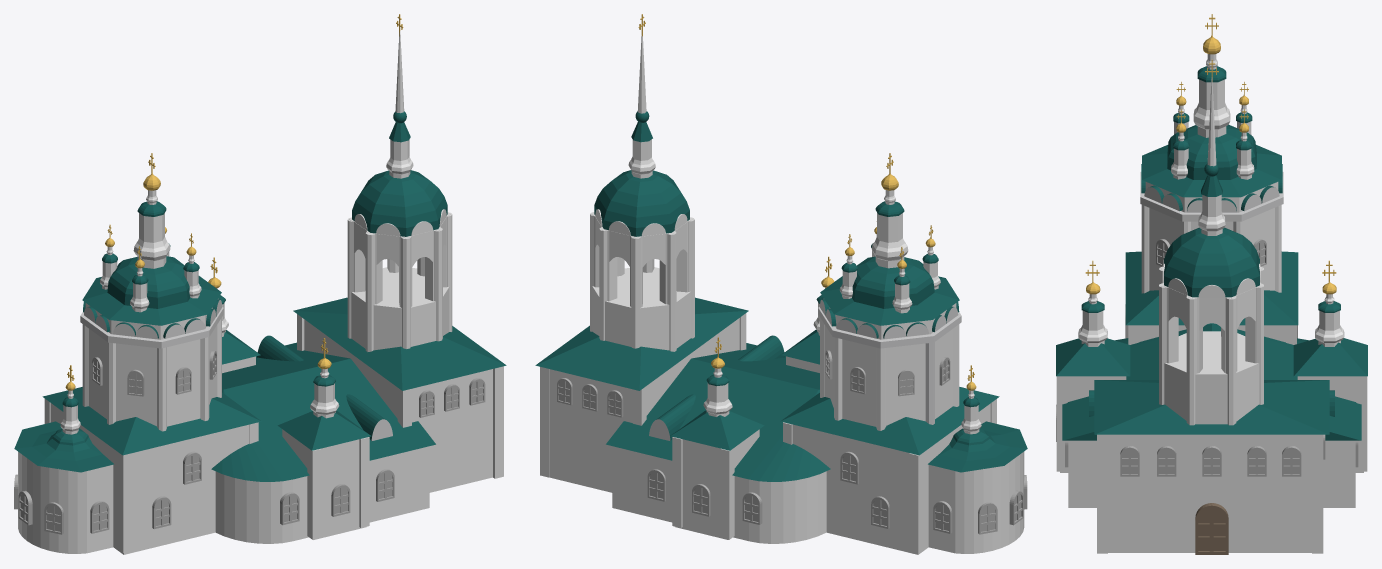
File: bogoyavlenskiy1.glb
3 views of the same model, side by side, from view 1: azimuth 30°, elevation 25°; view 2: azimuth 150°, elevation 25°; view 3: azimuth 270°, elevation 25° (orthographic). The views are drawn at different scales.
Parts seen in each view (by area): view 1: Cylinder.042, Cylinder.023, Cylinder.090, Cylinder.057, Cylinder.020, Cylinder.021, Cube.030, Cylinder.074; view 2: Cylinder.042, Cylinder.023, Cylinder.090, Cylinder.057, Cylinder.020, Cylinder.021, Cube.030, Cylinder.010; view 3: Cylinder.042, Cylinder.023, Cylinder.090, Cylinder.095, Cylinder.020, Cube.030, Cylinder.021.
Boxes of the visible parts, box(x1,y1,x2,y2) form: Cylinder.042: box(18, 31, 503, 554); Cylinder.023: box(14, 111, 506, 481); Cylinder.090: box(14, 350, 485, 534); Cylinder.057: box(257, 335, 392, 441); Cylinder.020: box(83, 296, 222, 339); Cylinder.021: box(80, 307, 223, 348); Cube.030: box(65, 14, 403, 390); Cylinder.074: box(401, 236, 411, 348); Cylinder.042: box(540, 35, 1024, 554); Cylinder.023: box(535, 111, 1027, 481); Cylinder.090: box(557, 350, 1027, 534); Cylinder.057: box(649, 335, 784, 441); Cylinder.020: box(820, 296, 959, 339); Cylinder.021: box(818, 307, 961, 348); Cube.030: box(638, 14, 976, 390); Cylinder.010: box(925, 342, 934, 424); Cylinder.042: box(1056, 54, 1367, 553); Cylinder.023: box(1056, 66, 1367, 440); Cylinder.090: box(1056, 239, 1358, 476); Cylinder.095: box(1195, 503, 1228, 554); Cylinder.020: box(1141, 164, 1282, 212); Cube.030: box(1085, 14, 1336, 294); Cylinder.021: box(1140, 172, 1283, 221).
Size of the model in its own units: 4.83 by 4.67 by 2.82.
